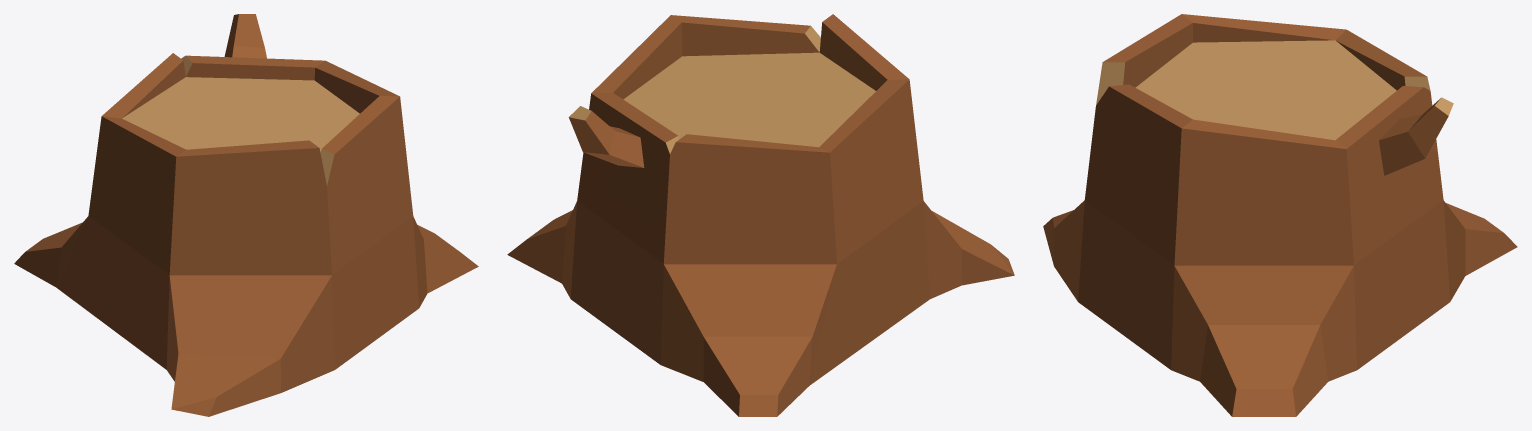
File: treestump.fbx
3 renders of one model, left to right at view 1: azimuth 30°, elevation 25°; view 2: azimuth 150°, elevation 25°; view 3: azimuth 270°, elevation 25°, orthographic. The views are drawn at different scales.
Visible parts, largest first — view 1: Circle; view 2: Circle; view 3: Circle.
Boxes of the visible parts, bbox=[...] form: Circle: bbox=[14, 14, 478, 416]; Circle: bbox=[507, 14, 1014, 416]; Circle: bbox=[1043, 14, 1517, 416].
Size of the model in its own units: 100 by 55.66 by 98.66.
